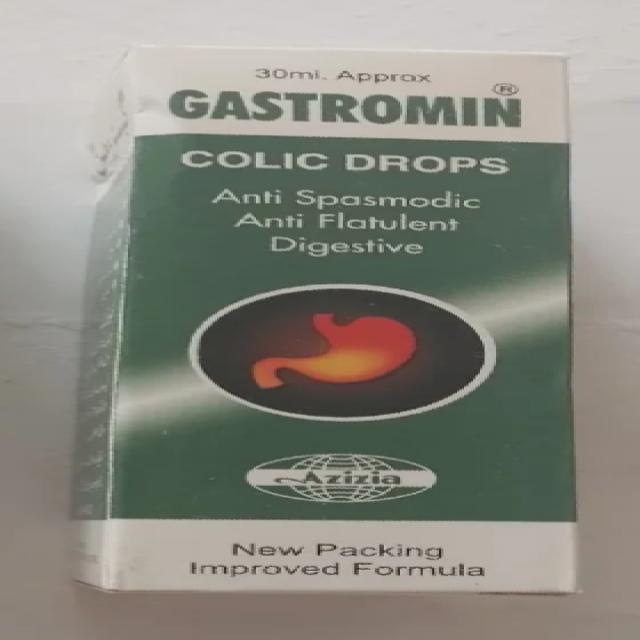drug-name: (156, 82, 560, 130)
